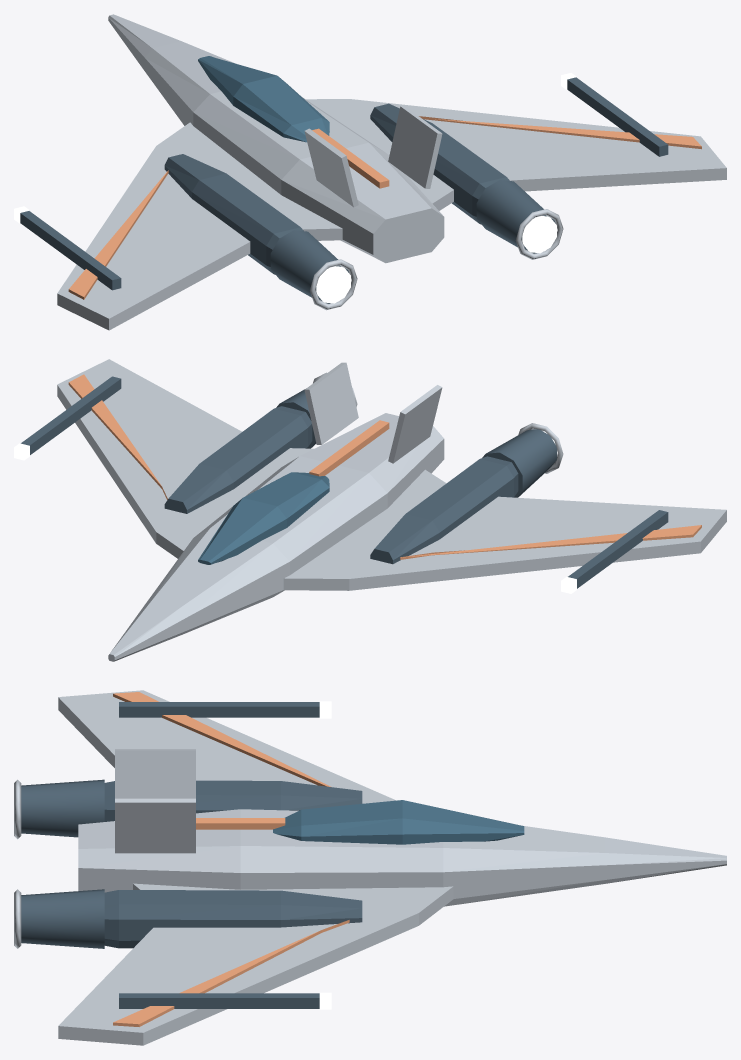
File: interceptor.glb
The picture shows the model from 3 angles, top to bottom: view 1: azimuth 30°, elevation 25°; view 2: azimuth 150°, elevation 25°; view 3: azimuth 270°, elevation 25°; orthographic projection. The views are drawn at different scales.
Parts seen in each view (by area): view 1: interceptor; view 2: interceptor; view 3: interceptor.
Part boxes in pixels (x1=…): interceptor: x1=14, y1=14, x2=726, y2=330; interceptor: x1=14, y1=359, x2=726, y2=661; interceptor: x1=14, y1=690, x2=726, y2=1045.
Bounding box in the file's own units: 18.1 × 2.94 × 15.92.
